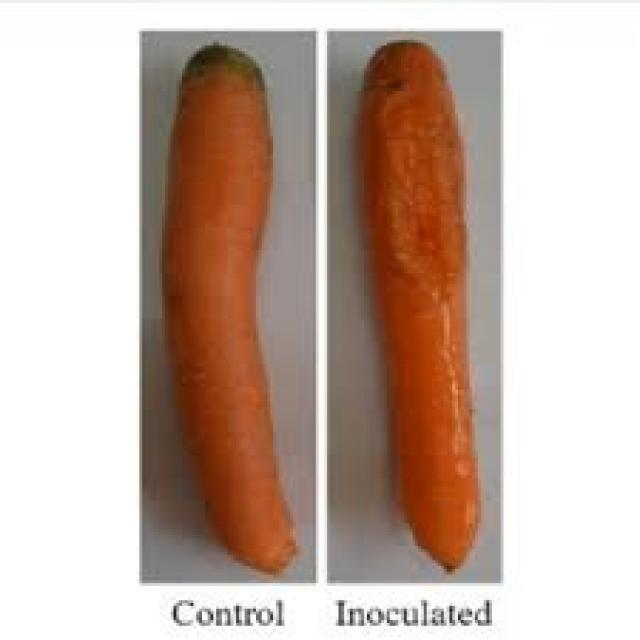Fresh_Carrot: (162, 24, 310, 587)
Stale_Carrot: (343, 39, 504, 573)
